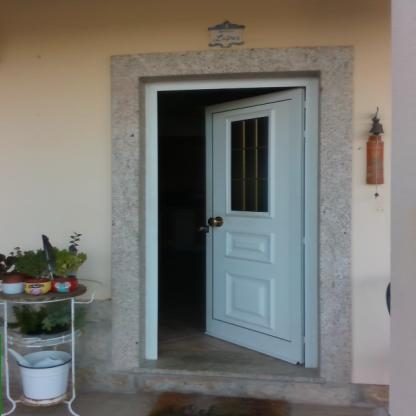semi: (129, 73, 329, 383)
